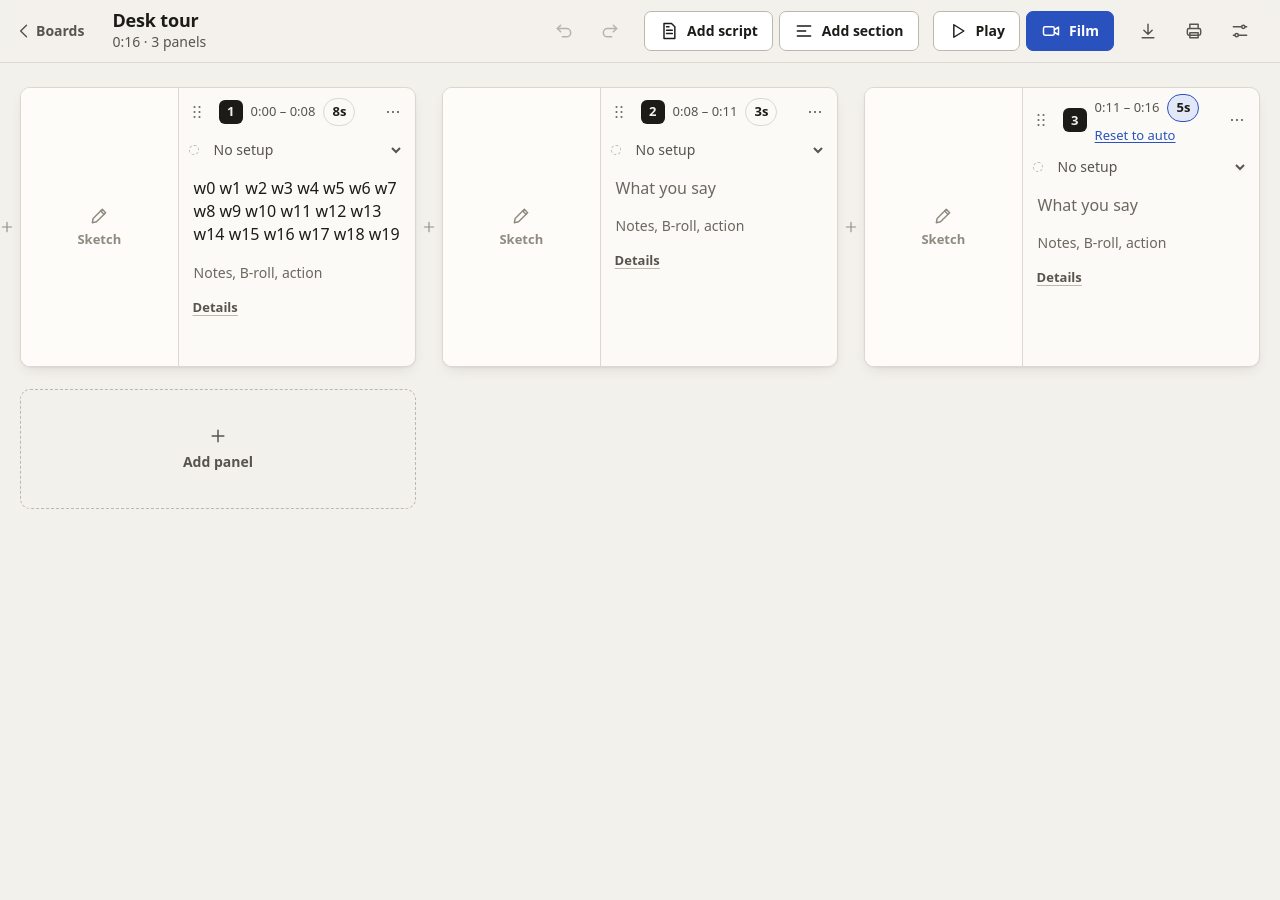
Test: the speaking pace can be typed, and out-of-range values are not applied
Click the button named "Settings".
click(1240, 31)  # box x1=1220 y1=11 x2=1260 y2=51
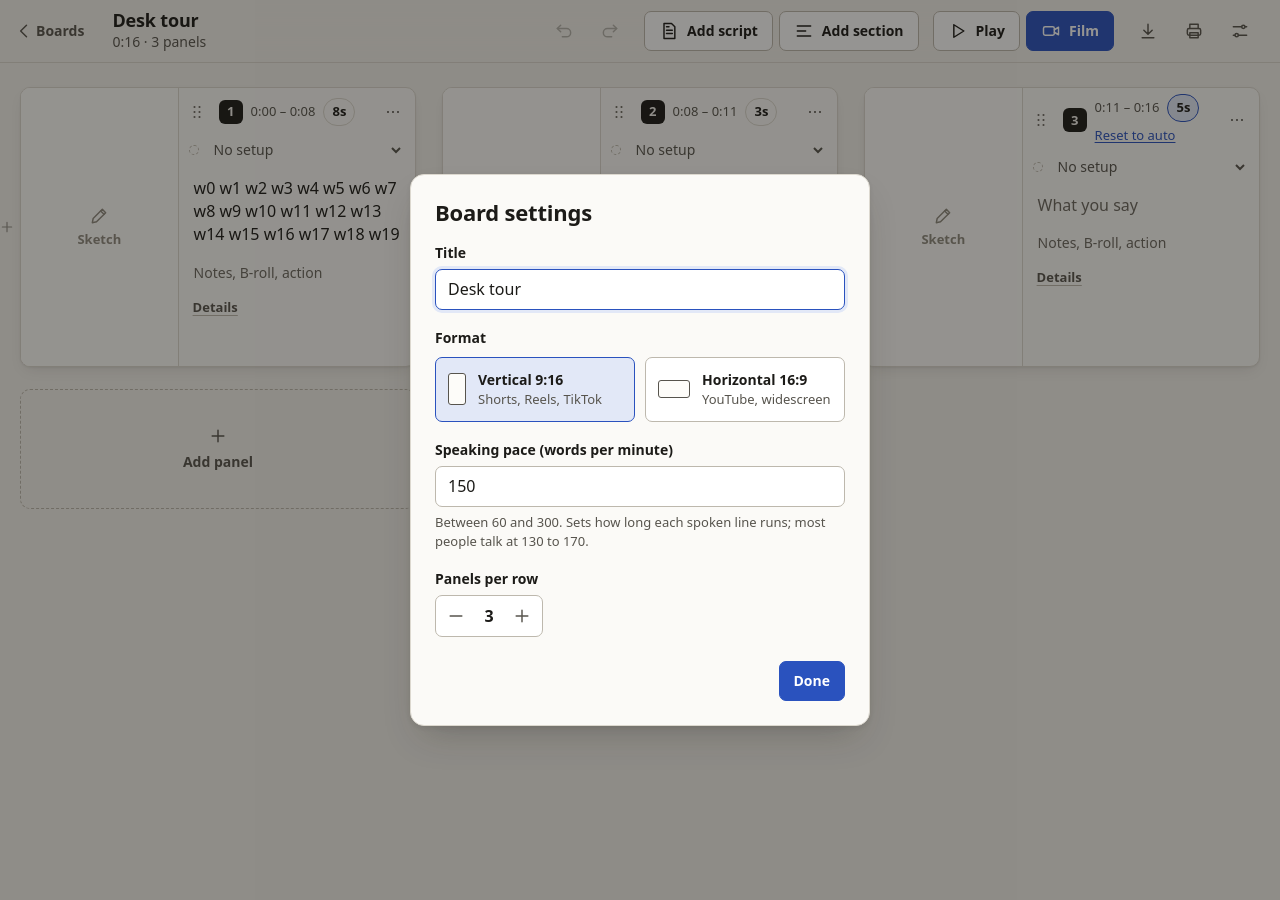
Replace the text in the number field labelled "Speaking pace" with "120" at (640, 487), box x1=435 y1=466 x2=845 y2=507
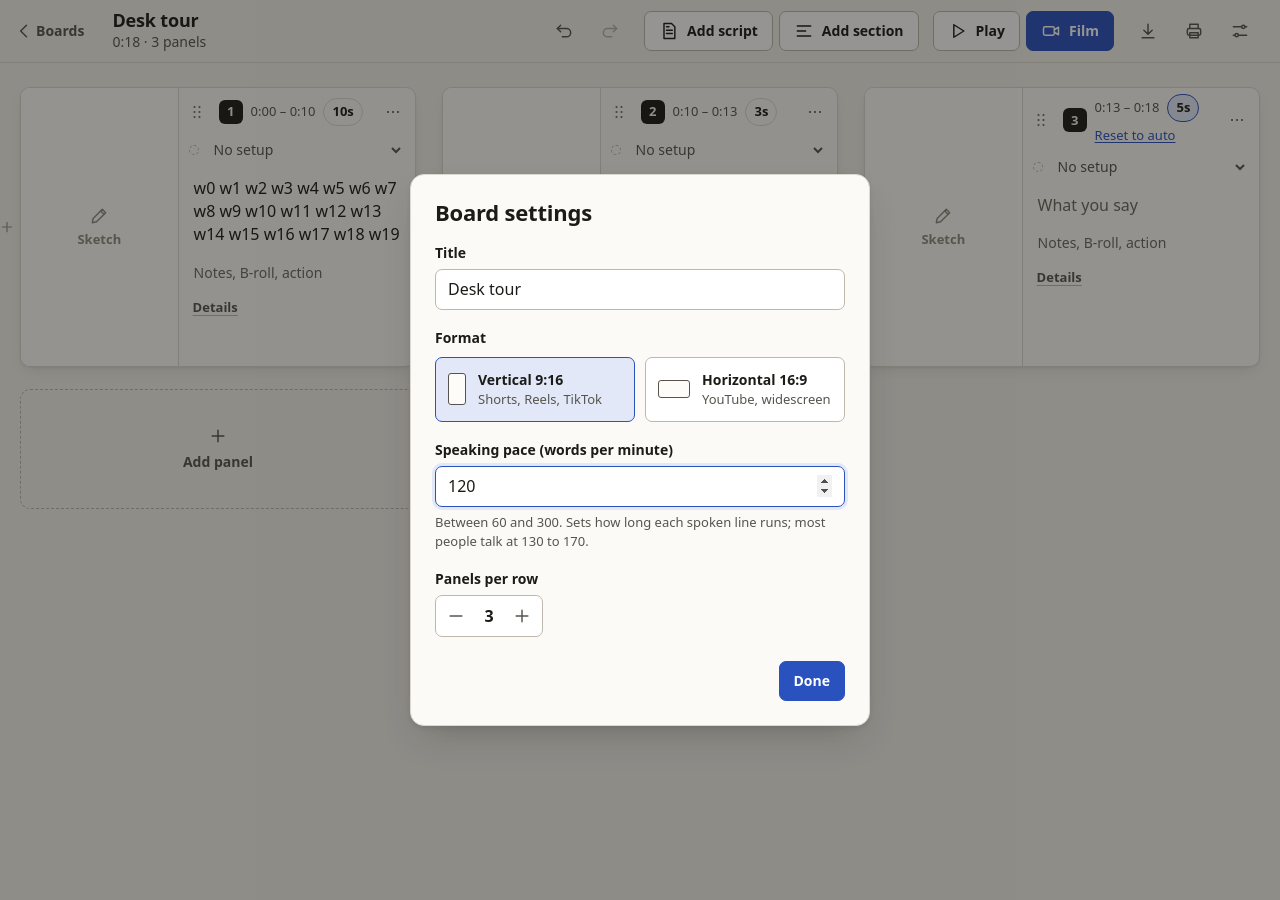
Replace the text in the number field labelled "Speaking pace" with "9000" at (640, 487), box x1=435 y1=466 x2=845 y2=507
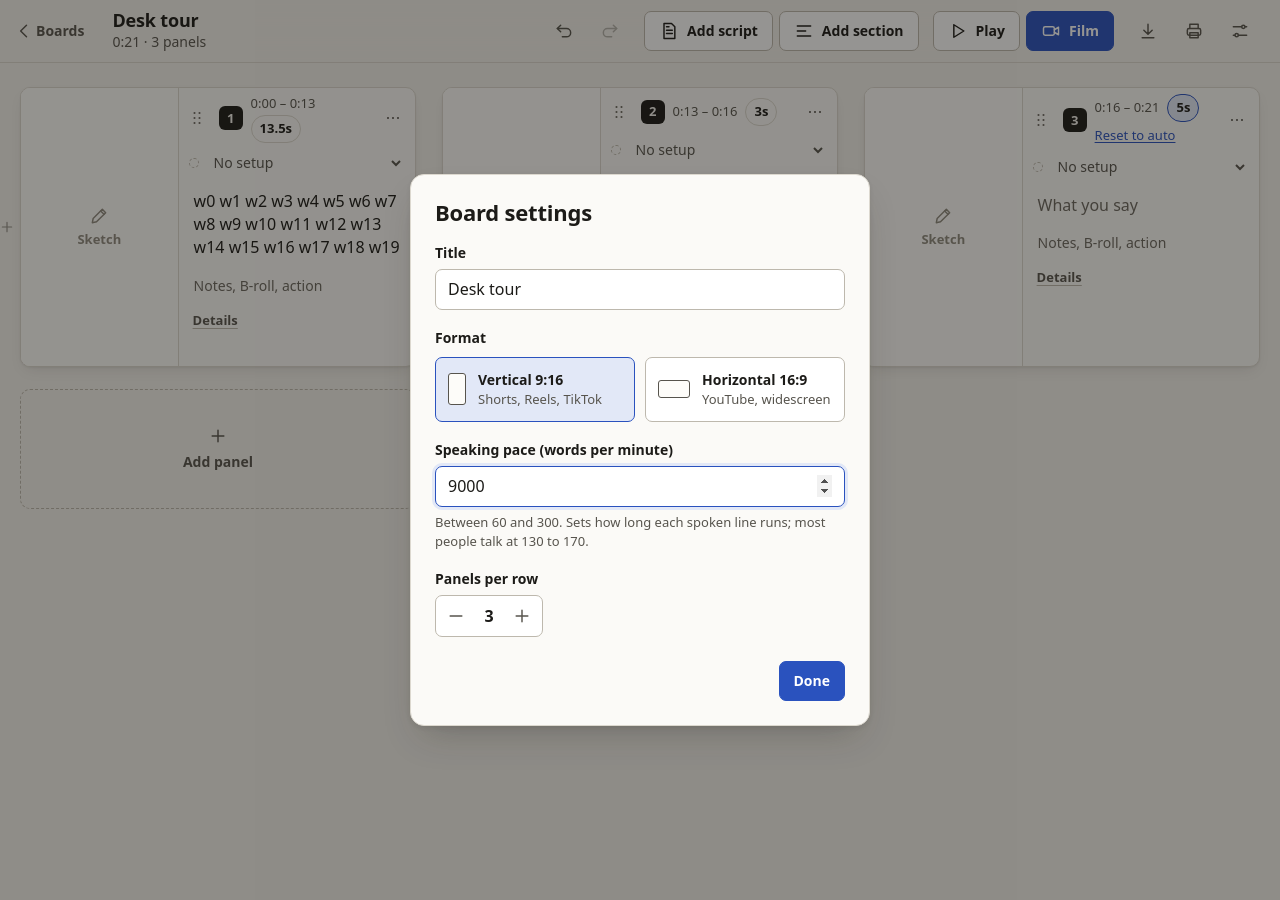
Press Tab
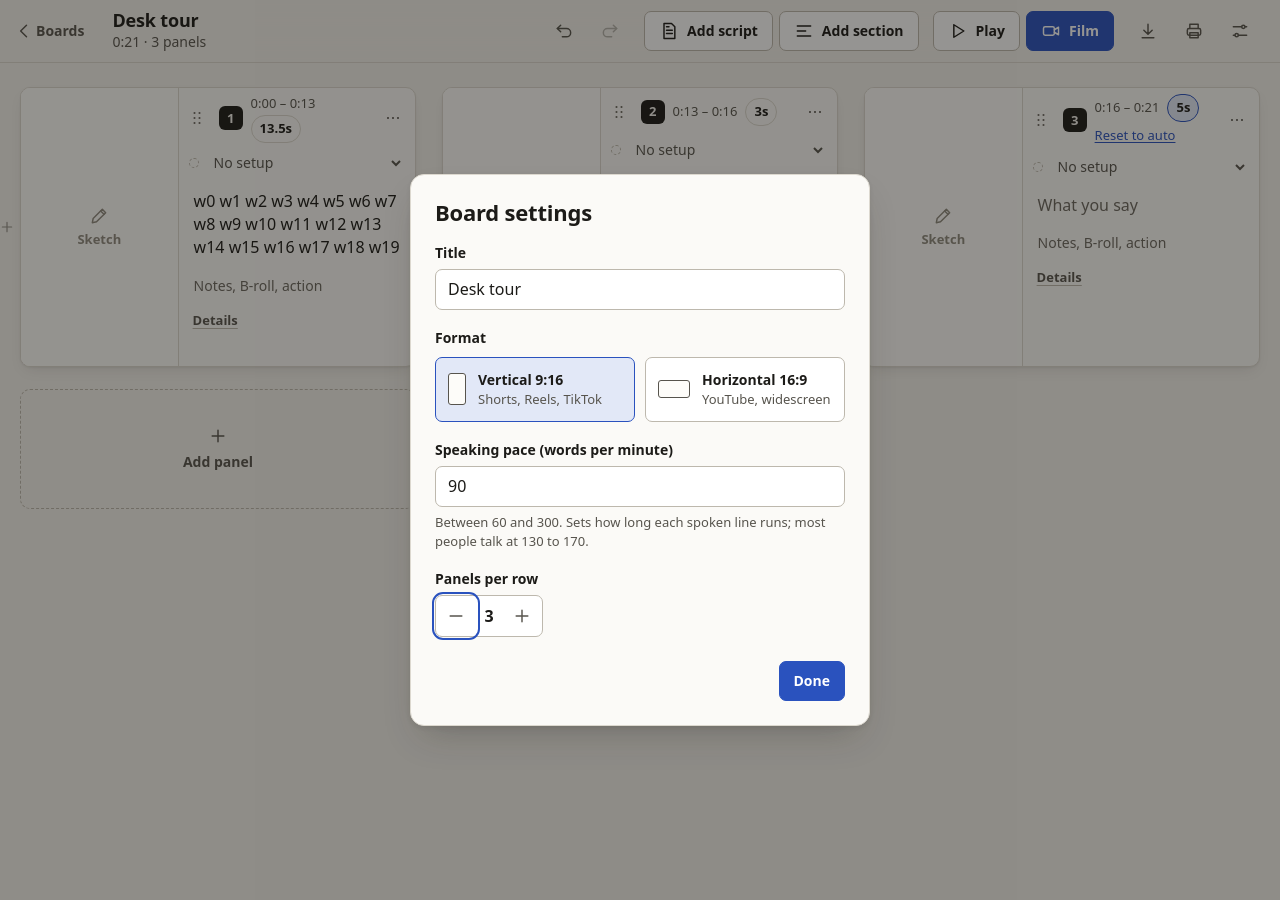
expect the number field labelled "Speaking pace" holds "90": met, box x1=435 y1=466 x2=845 y2=507
